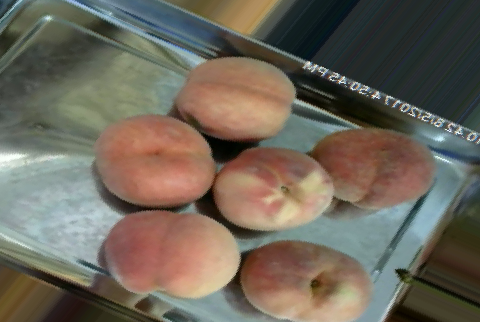Peach: (104, 209, 239, 297), (95, 114, 217, 206), (175, 56, 296, 140), (241, 241, 369, 320), (313, 126, 433, 209), (217, 147, 334, 232)
